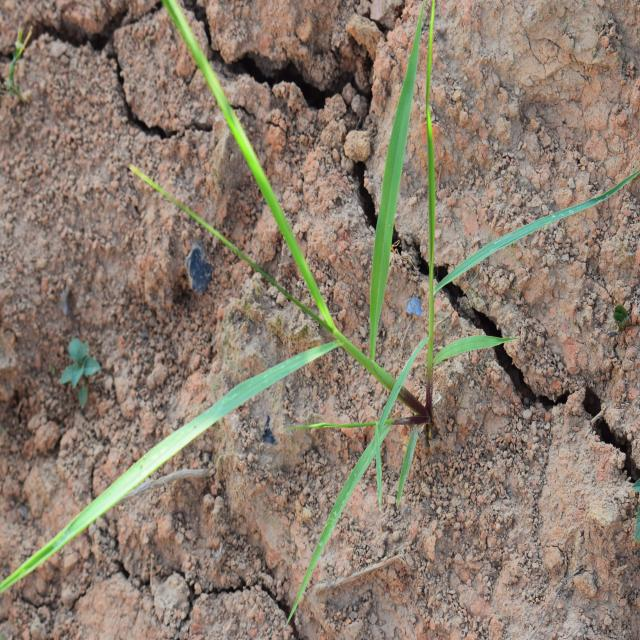green_foxtail: (65, 88, 465, 478)
